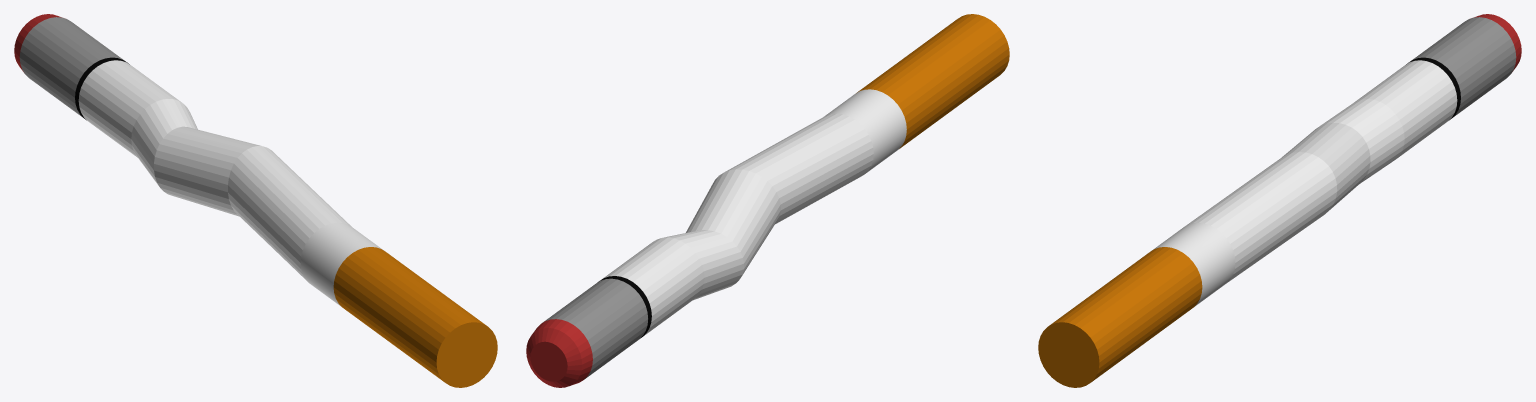
The model's file is 曲がりタバコ1.fbx.
3 views of the same model, side by side, from view 1: azimuth 30°, elevation 25°; view 2: azimuth 150°, elevation 25°; view 3: azimuth 330°, elevation 25° (orthographic).
Visible parts, largest first — view 1: 円柱; view 2: 円柱; view 3: 円柱.
Boxes of the visible parts, <box> form: 円柱: <box>14,14,497,387</box>; 円柱: <box>526,14,1009,387</box>; 円柱: <box>1038,14,1521,387</box>.
Size of the model in its own units: 18.52 by 17.35 by 171.
